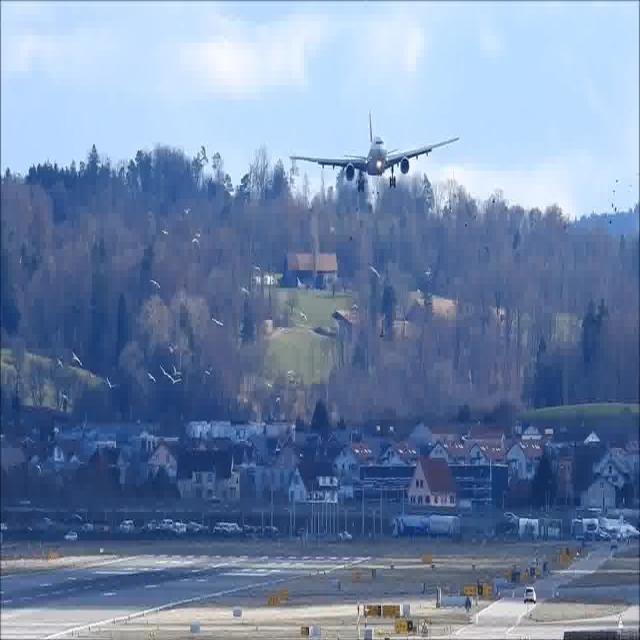bird: (162, 370, 177, 385), (366, 263, 381, 278), (192, 234, 202, 252), (70, 352, 81, 368), (106, 376, 117, 391), (150, 277, 160, 292), (212, 313, 223, 325), (147, 370, 156, 384), (300, 308, 308, 323), (183, 204, 191, 216), (168, 345, 175, 356), (205, 367, 212, 378), (162, 226, 168, 237), (614, 176, 620, 184), (608, 219, 612, 225), (614, 206, 618, 212), (611, 201, 613, 210), (612, 189, 614, 196)
